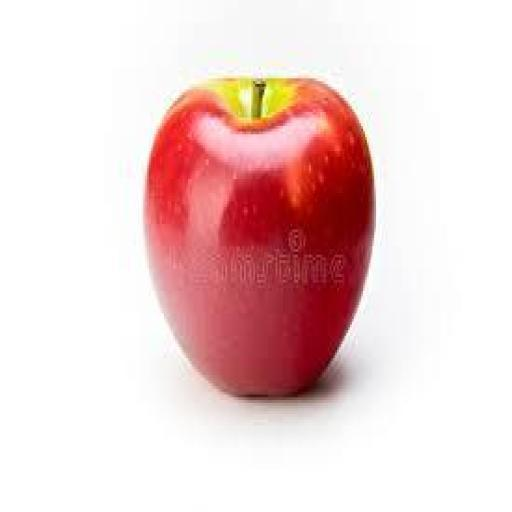apple: (146, 79, 374, 394)
